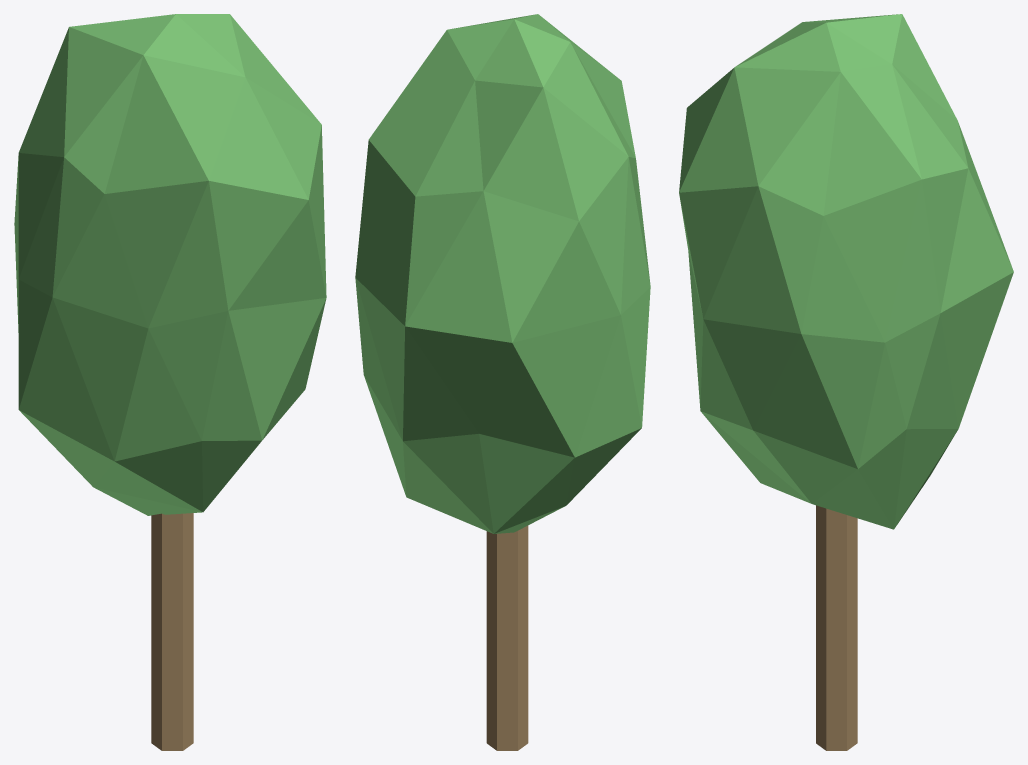
File: tree_variant_1.glb
3 views of the same model, side by side, from view 1: azimuth 30°, elevation 25°; view 2: azimuth 150°, elevation 25°; view 3: azimuth 270°, elevation 25° (orthographic).
Parts seen in each view (by area): view 1: Tree_v1; view 2: Tree_v1; view 3: Tree_v1.
Boxes of the visible parts, x1,y1,x2,y2 form: Tree_v1: (14,14,326,750); Tree_v1: (355,14,650,750); Tree_v1: (679,14,1013,750).
Bounding box in the file's own units: 1.03 × 2.6 × 1.09.
